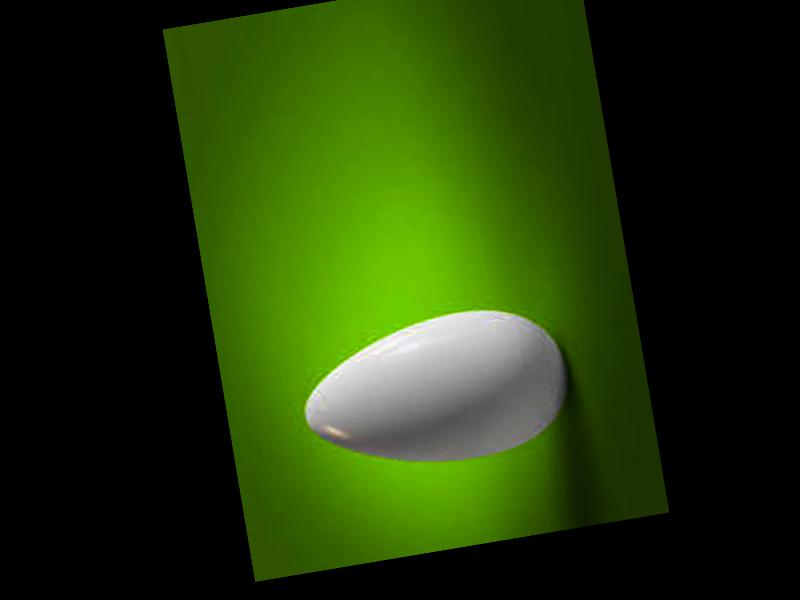Eggs: (288, 296, 576, 485)
